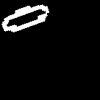chain: (2, 5, 48, 31)
